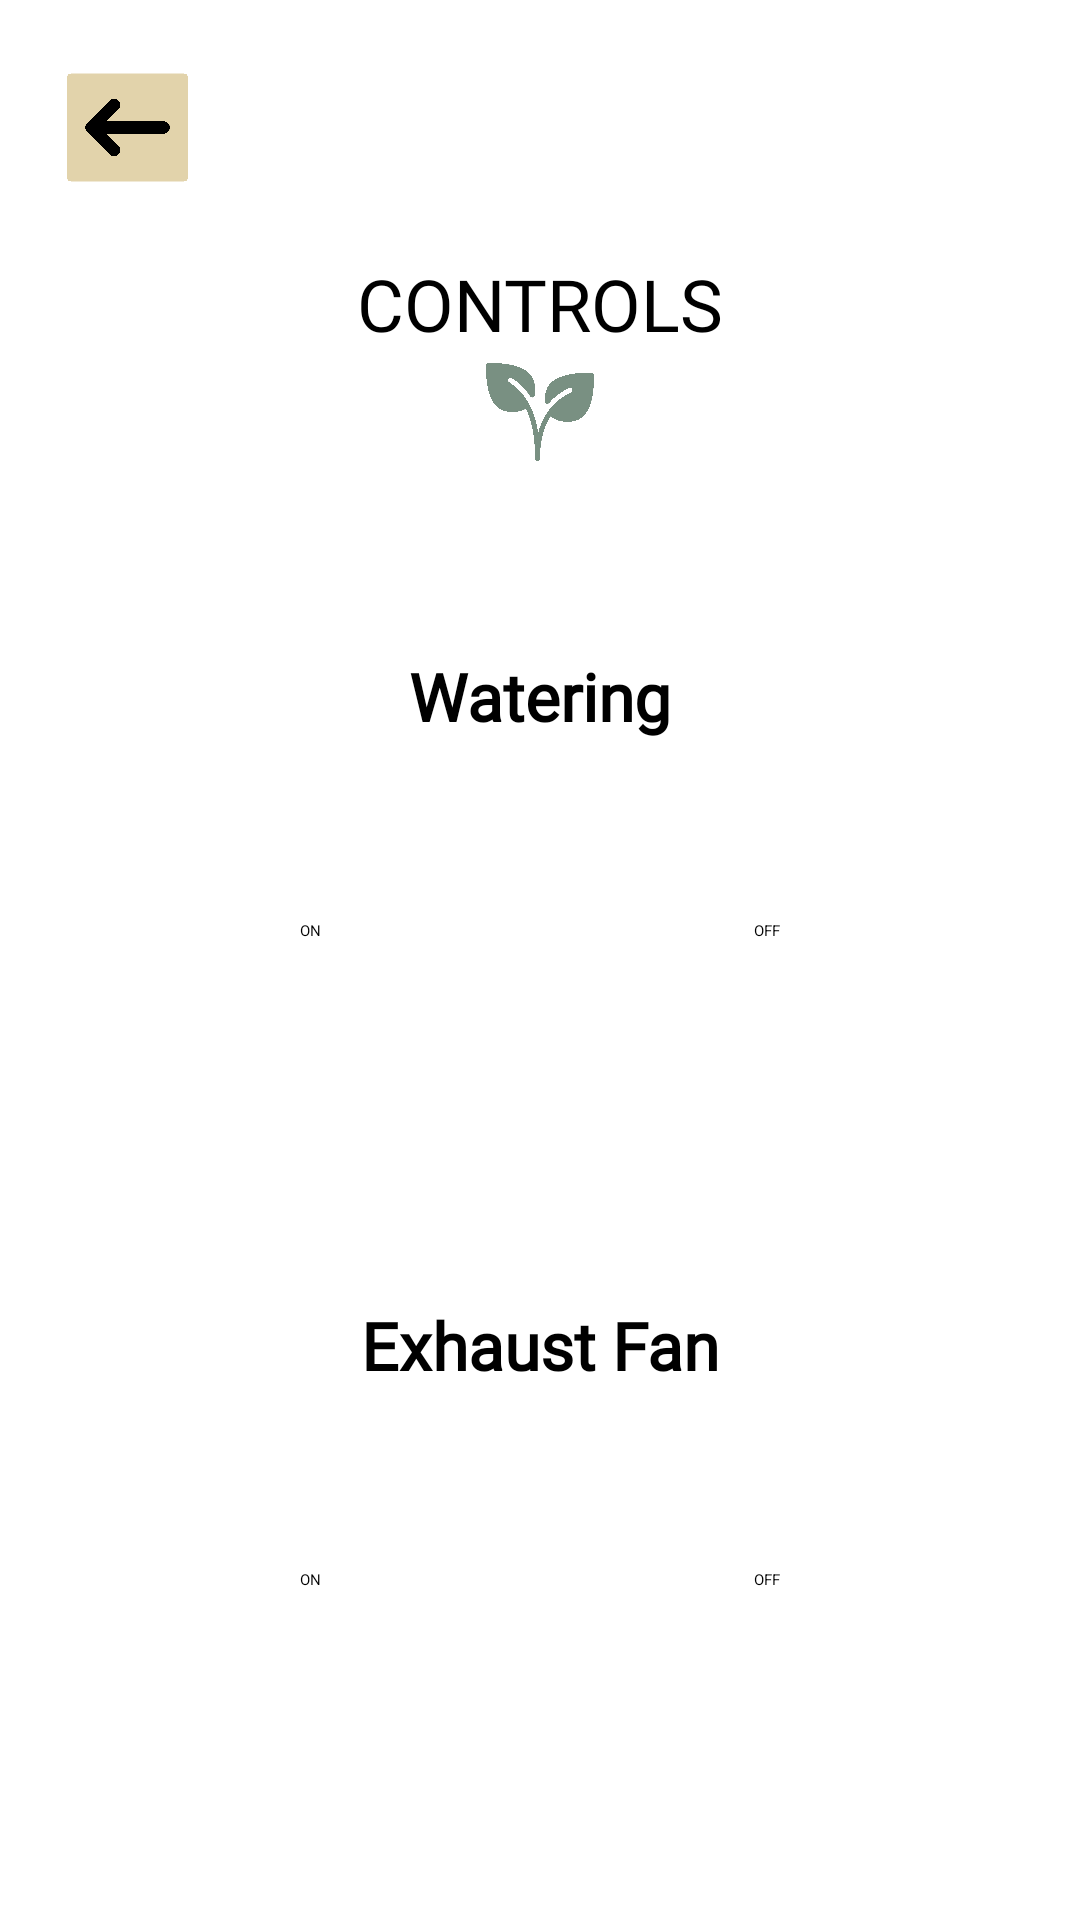

Icon click points for this 1080×1920 phone screenshot, format (x=x, y=y):
plant: (x=540, y=412)
